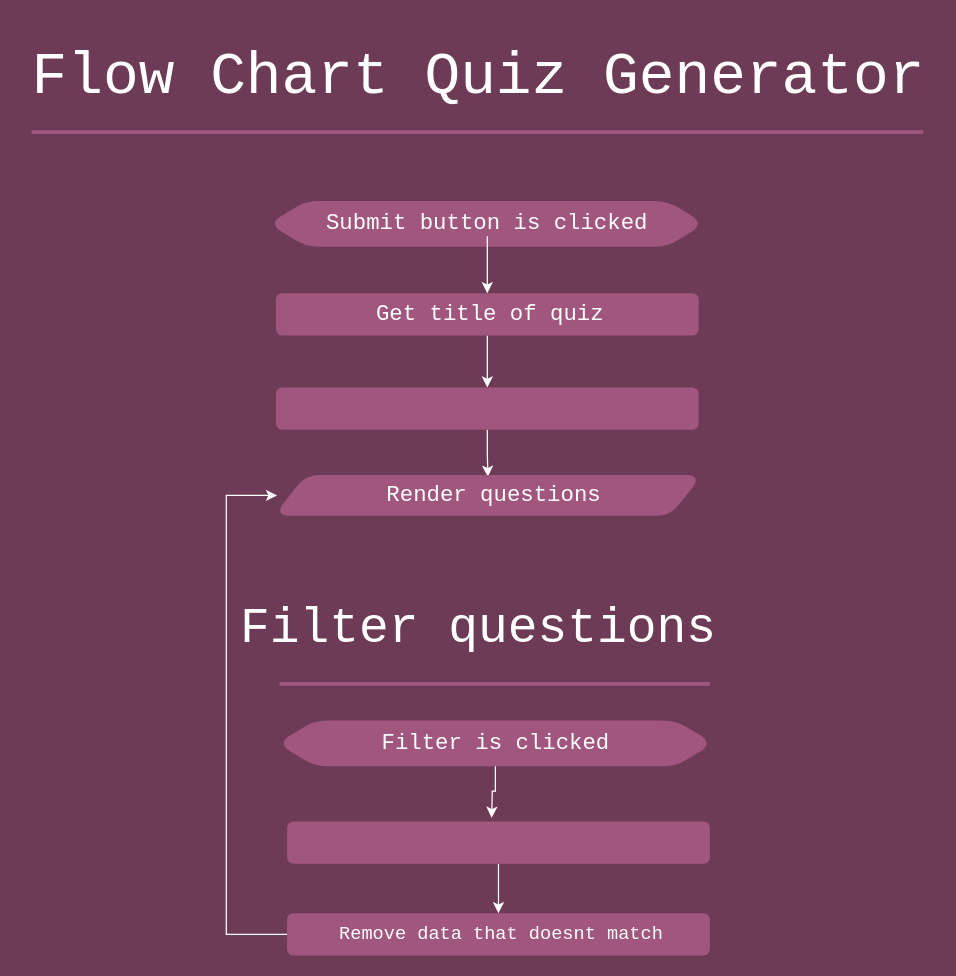
Some shapes in this 956 by 976 pixel diagram are drawn without their labels. Each missing label, with the box of its shape:
Put title in H1: (275, 387, 698, 429)
Set new filter values in array: (286, 821, 709, 863)
